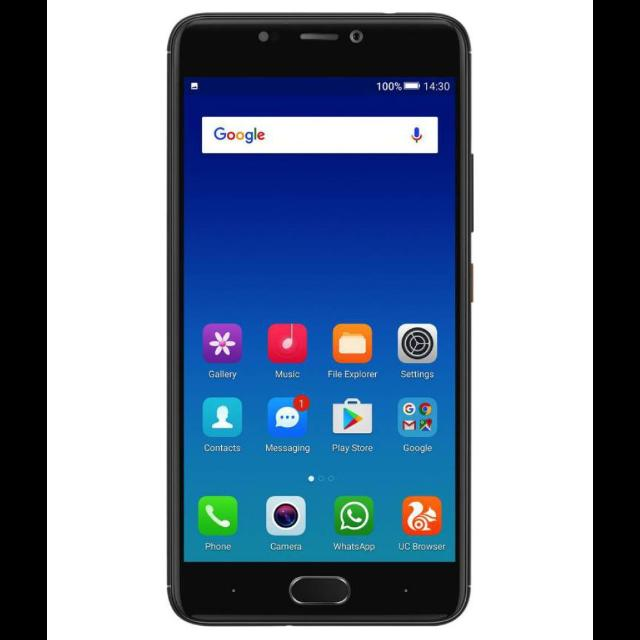Smartphone: (164, 11, 475, 634)
